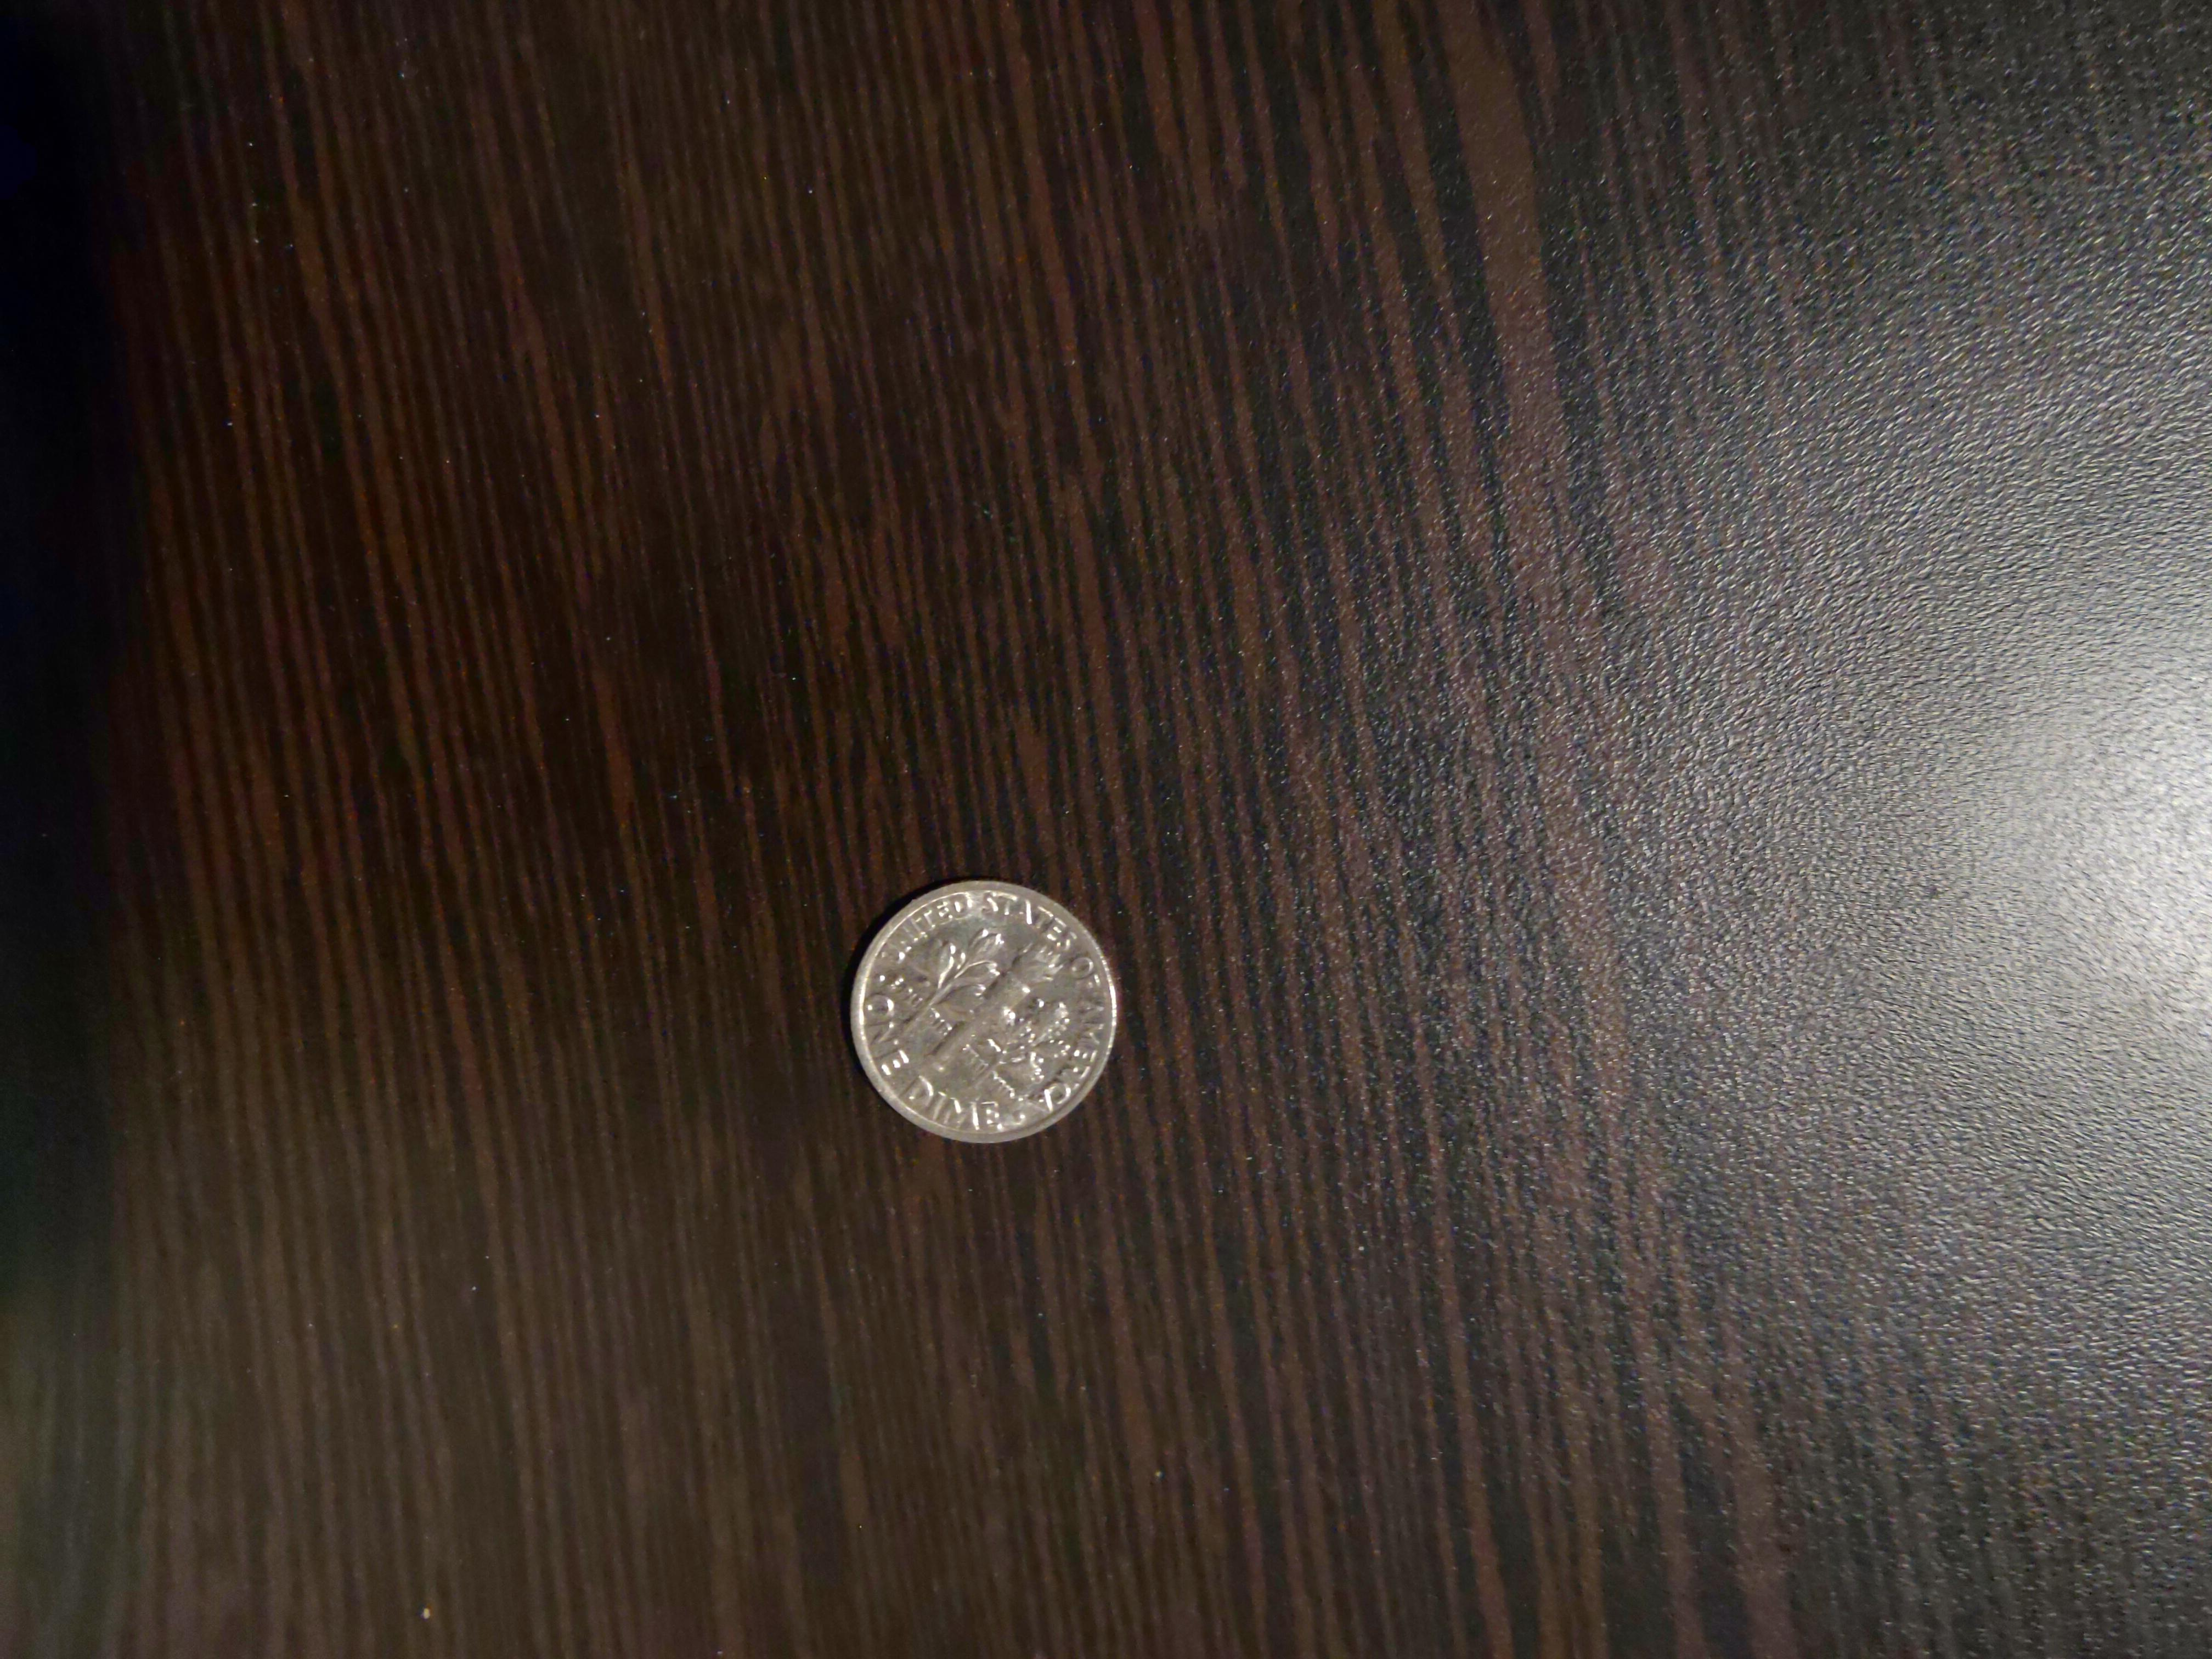Dime: (850, 873, 1122, 1150)
